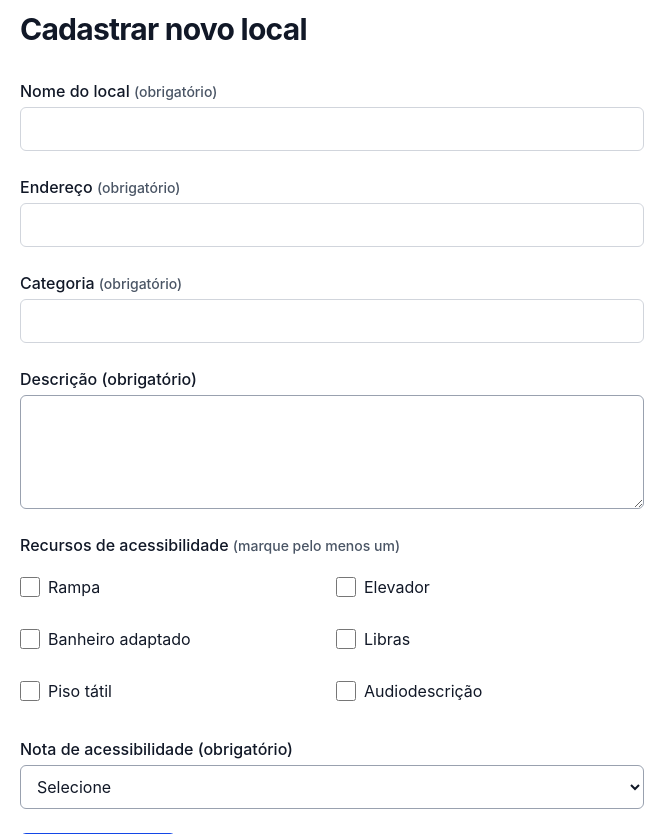
Test case: Cadastro integrado à API › envia os dados e mostra o sucesso com link para o local
This screenshot has width=665, height=834.
Step 1. Type "Museu Aberto" into the field labelled "Nome do local (obrigatório)" → (332, 129), box [20,107,644,151]
Step 2. Type "Rua A, 1" into the field labelled "Endereço (obrigatório)" → (332, 225), box [20,203,644,247]
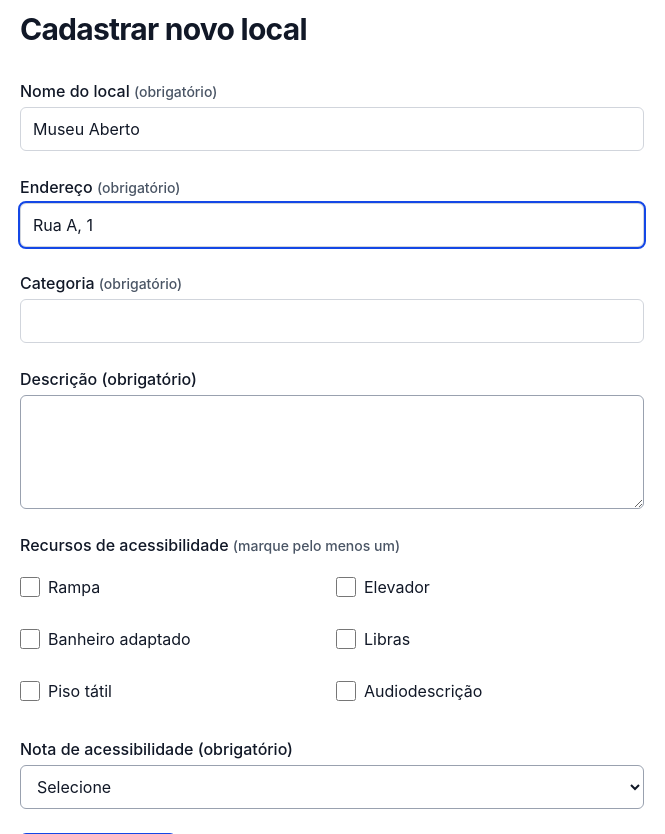
Step 3. Type "Cultura" into the field labelled "Categoria (obrigatório)" → (332, 321), box [20,299,644,343]
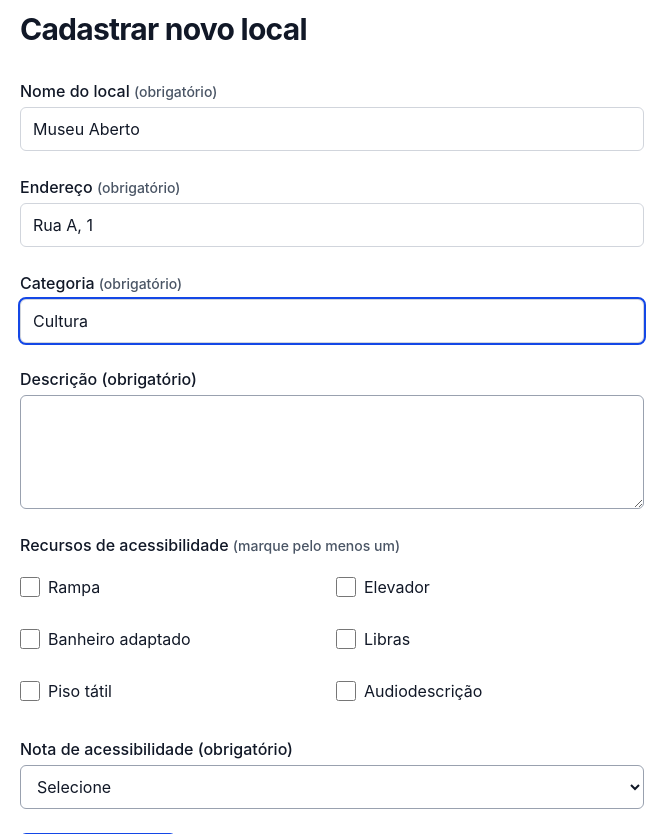
Step 4. Type "Museu com rampa" into the text box labelled "Descrição (obrigatório)" → (332, 452), box [20,395,644,509]
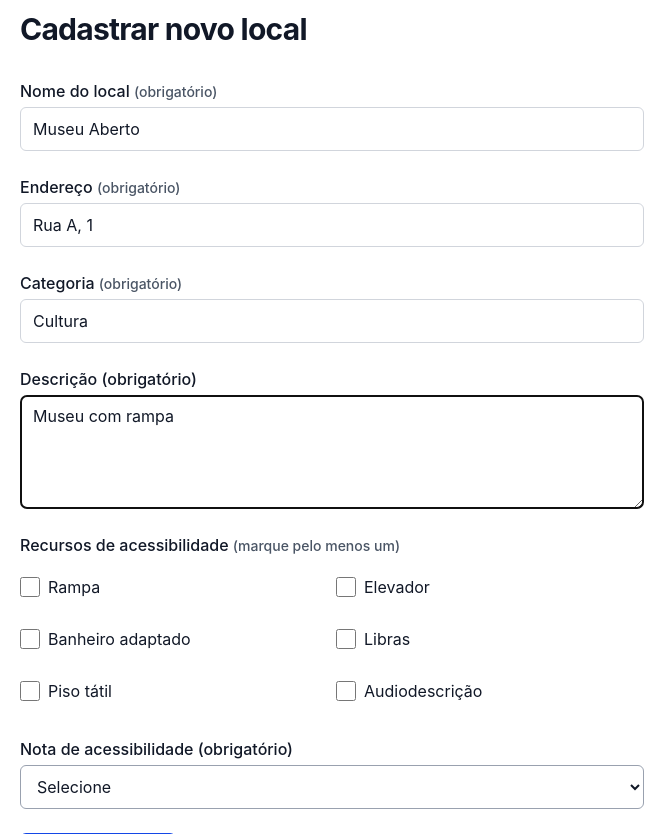
Step 5. Click the checkbox labelled "Rampa" → (30, 587), box [20,577,40,597]
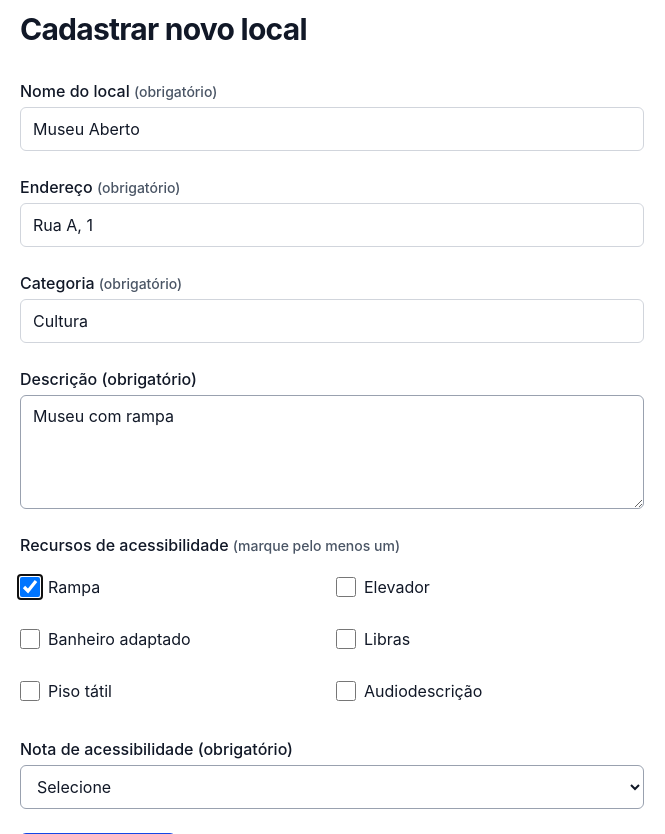
Step 6. Select "4" in the dropdown labelled "Nota de acessibilidade (obrigatório)" → (332, 787), box [20,765,644,809]
(page scrolled)
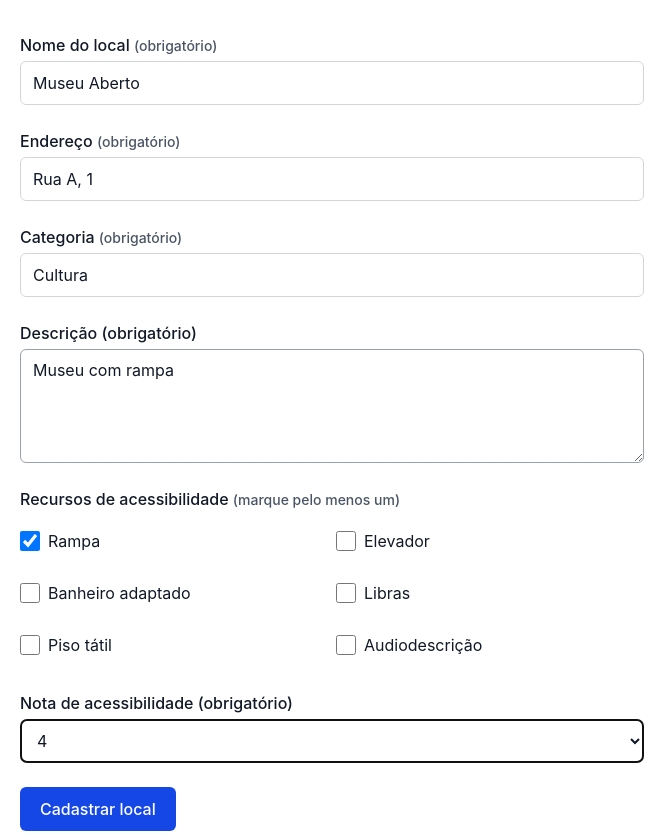
Step 7. Click the button "Cadastrar local" → (98, 809), box [20,787,176,831]
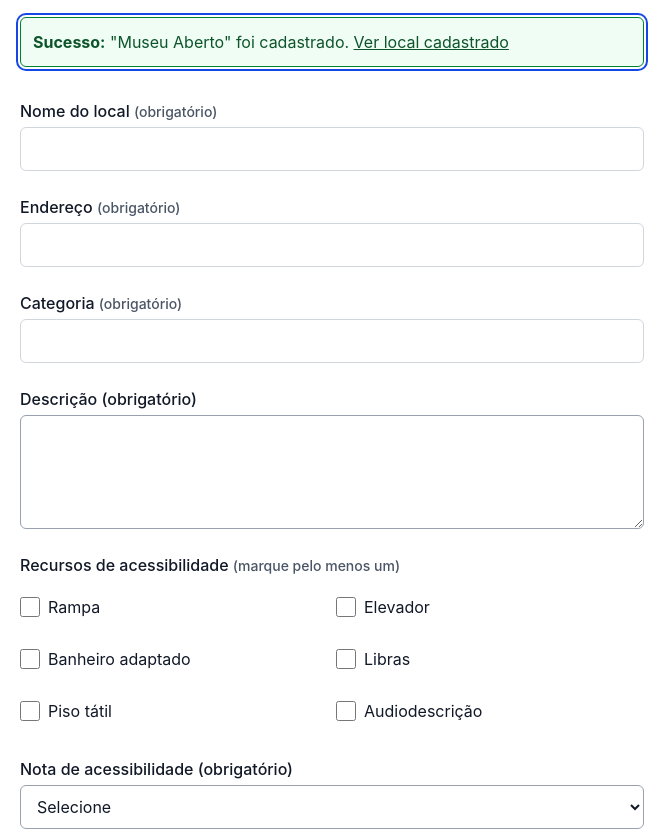
Now the message shows "Museu Aberto", box [117,32,224,52]
